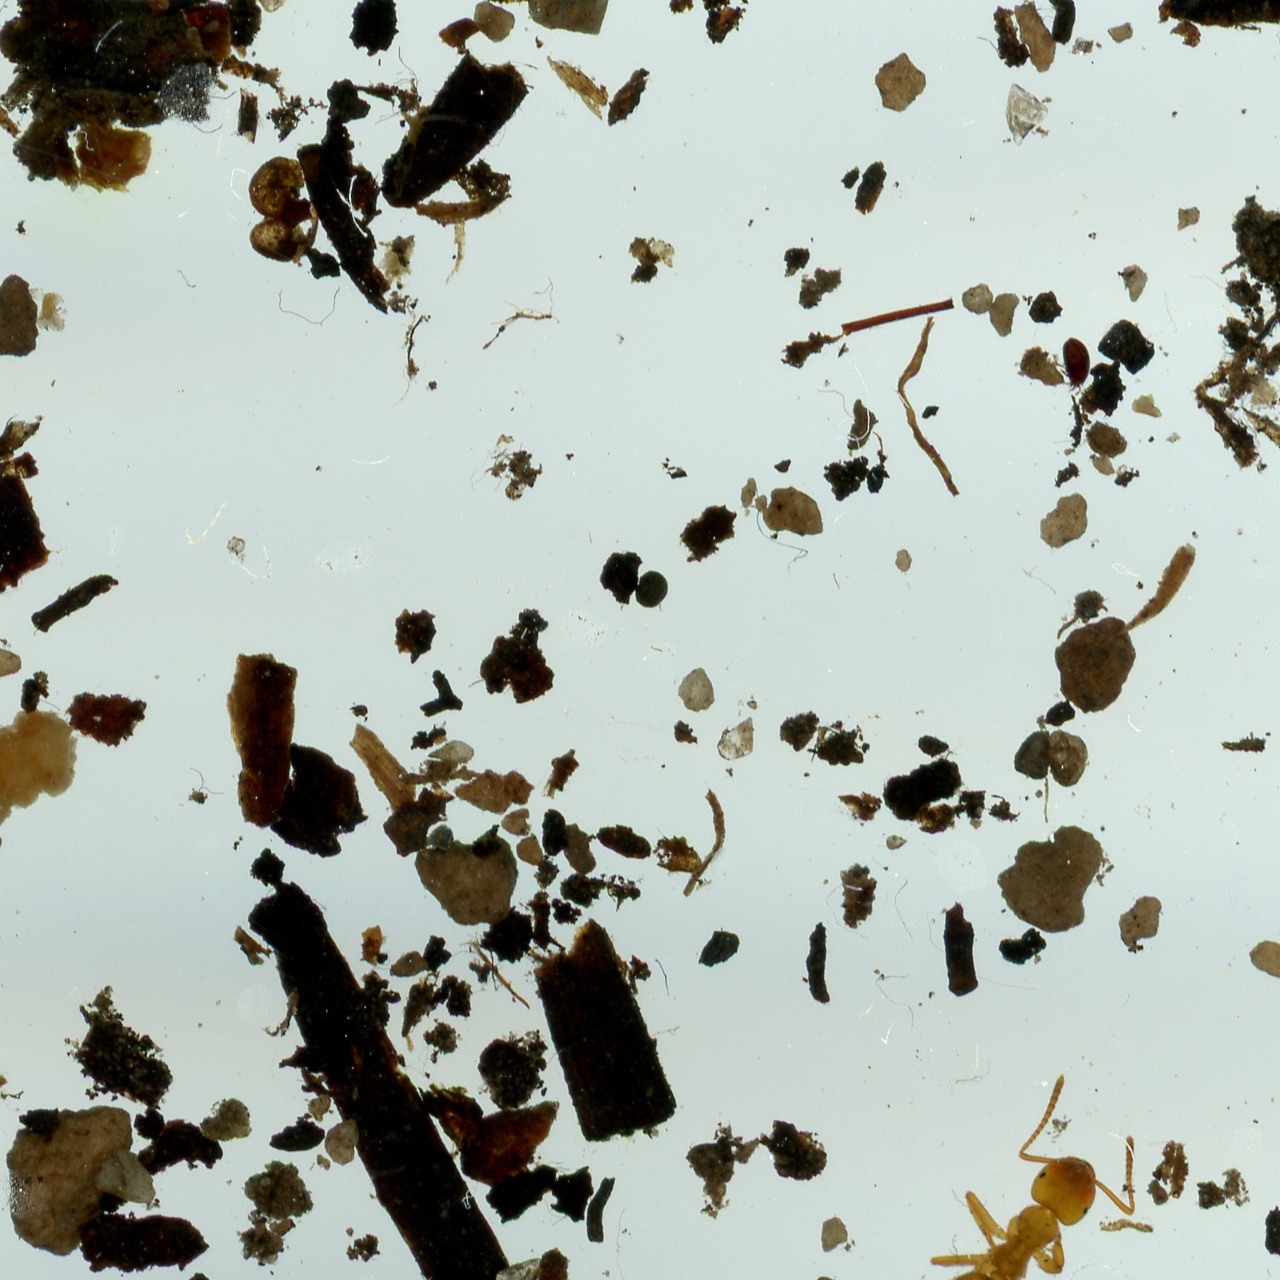arthropod: (886, 1054, 1183, 1280), (1055, 334, 1091, 397)
